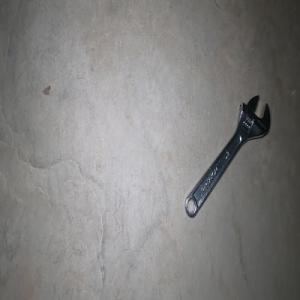Wrench: (184, 95, 270, 217)
